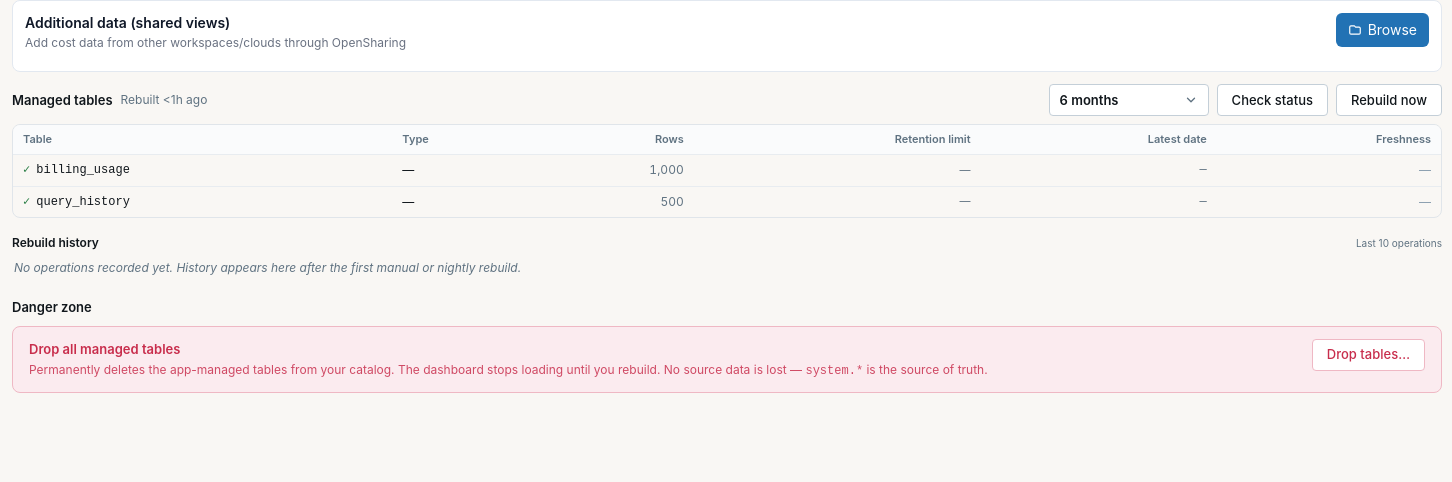
Test: SettingsConfig — CONFIRM gate before irreversible drop › 'Confirm Drop' button is disabled until 'CONFIRM' is typed exactly
This screenshot has width=1452, height=482.
Click the button "Drop tables…" at {"x": 1368, "y": 355}, box left=1312, top=339, right=1425, bottom=371
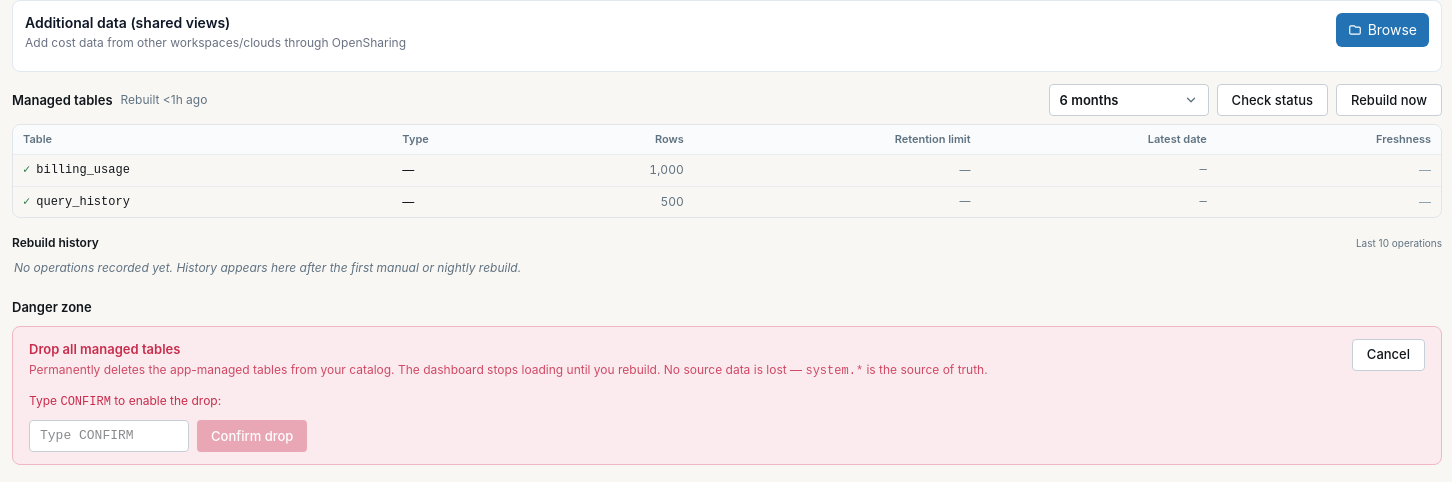
Check: the button "Confirm drop" is disabled, box left=197, top=420, right=307, bottom=452
Type "confirm" into the field with placeholder "Type CONFIRM" at {"x": 109, "y": 436}, box left=29, top=420, right=189, bottom=452
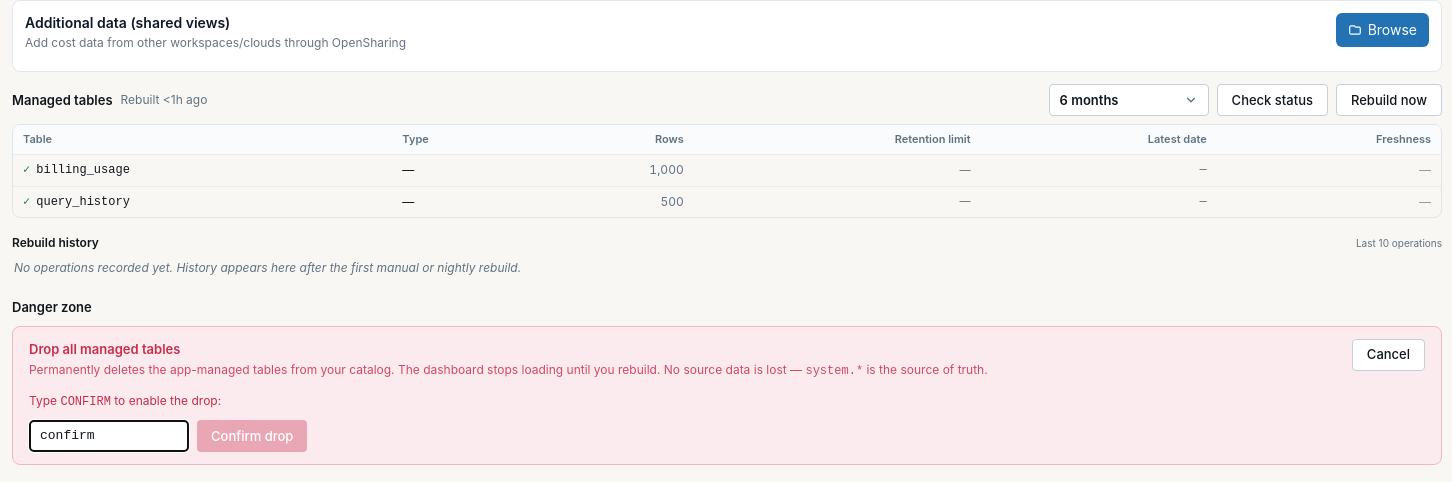
Check: the button "Confirm drop" is disabled, box left=197, top=420, right=307, bottom=452
Replace the text in the field with placeholder "Type CONFIRM" with "CONFIRM" at {"x": 109, "y": 436}, box left=29, top=420, right=189, bottom=452
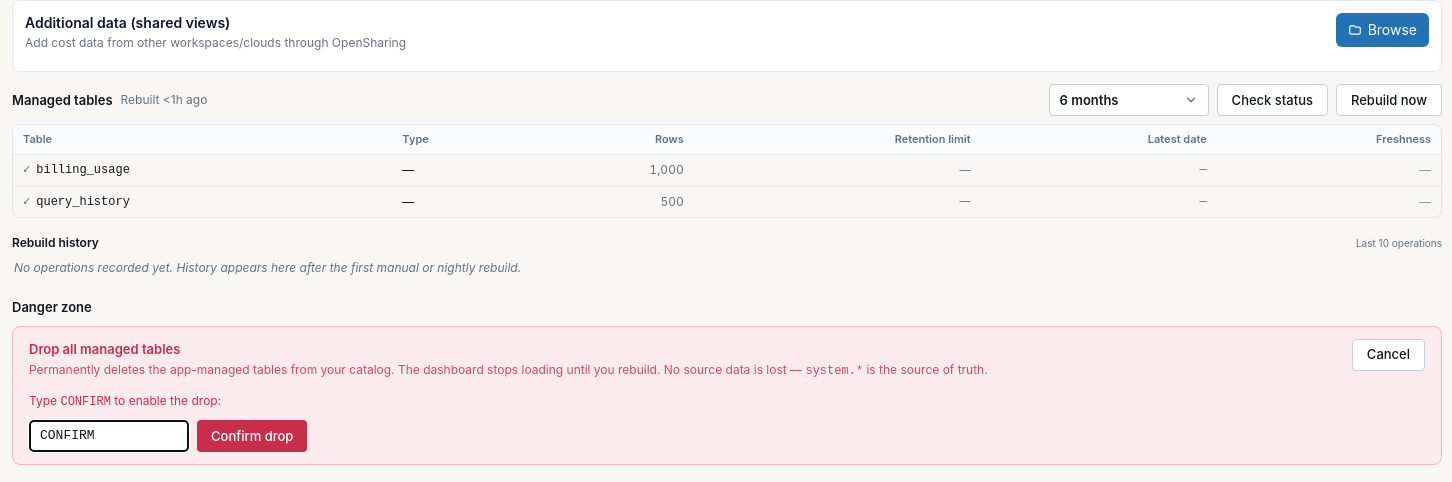
Check: the button "Confirm drop" is enabled, box left=197, top=420, right=307, bottom=452
